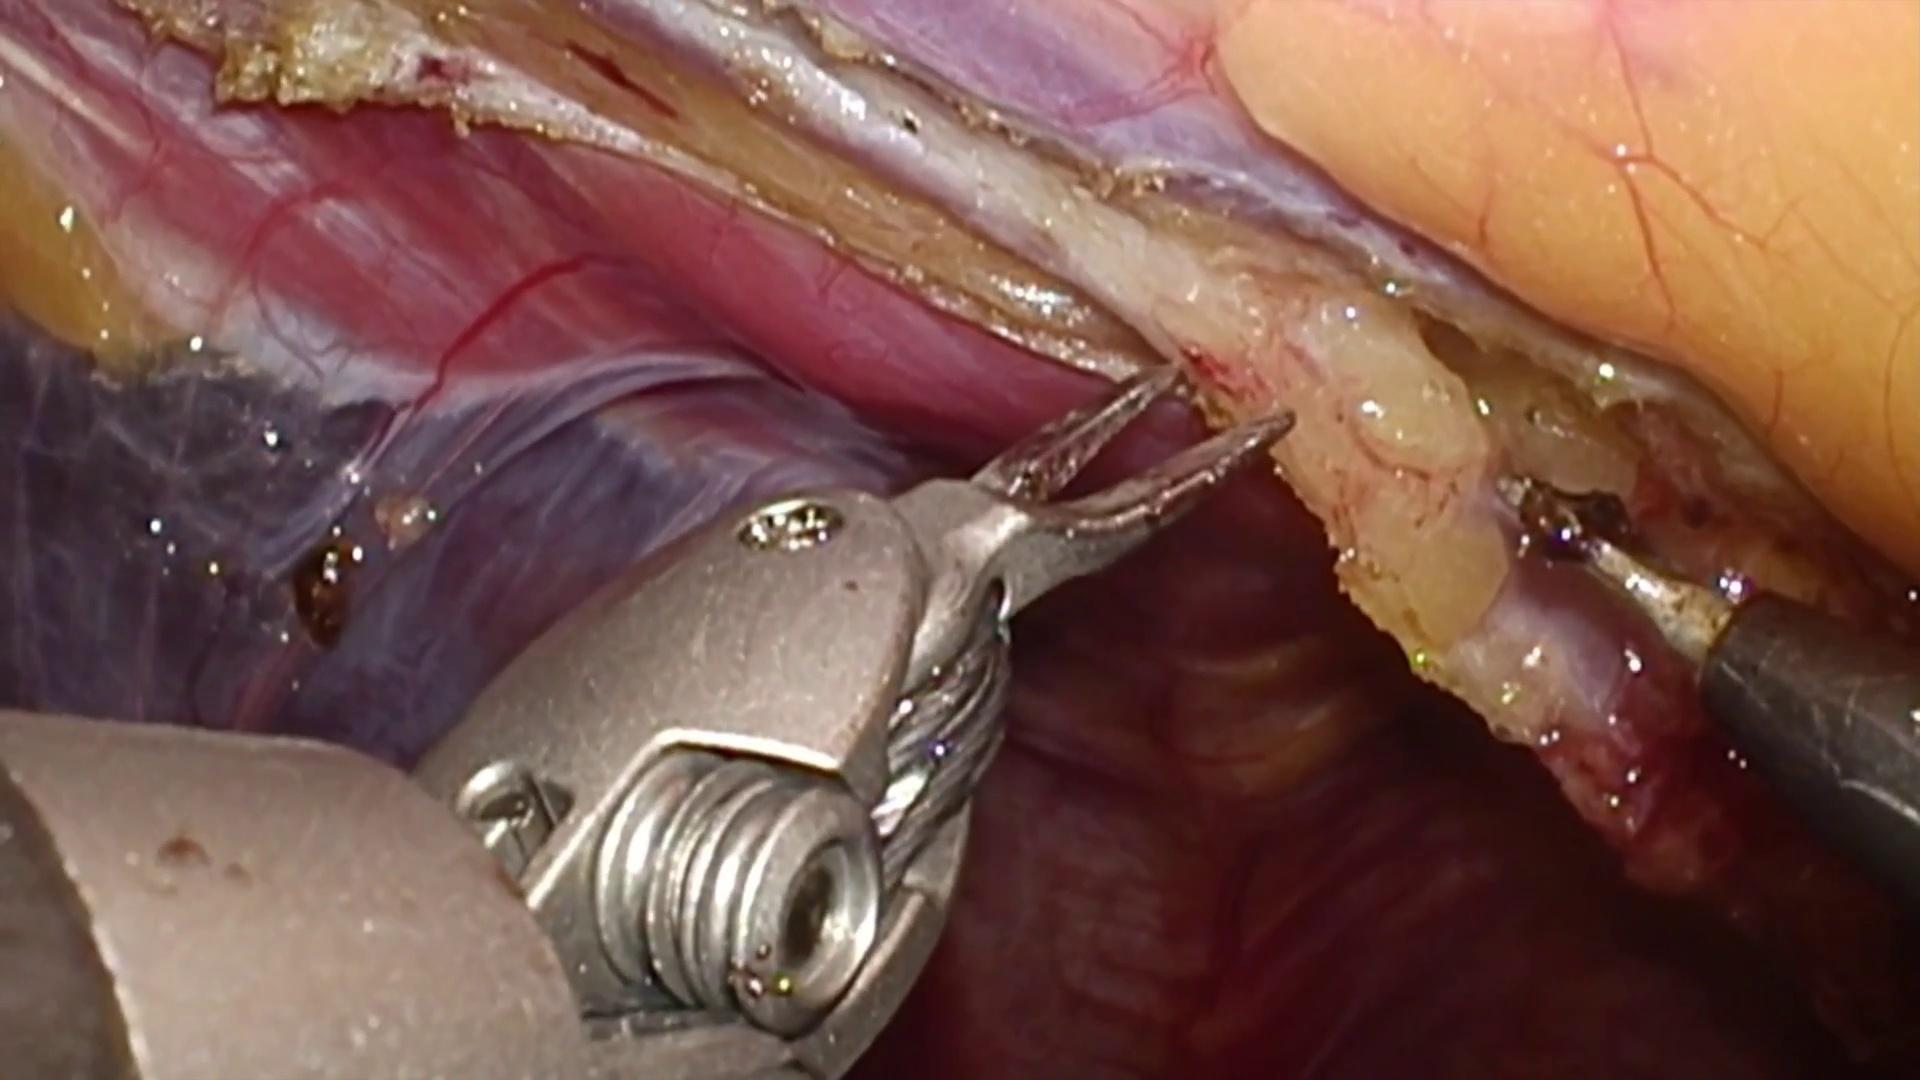Cautery_Spatula: (1491, 468, 1920, 948)
Debakey: (895, 336, 1300, 613)
